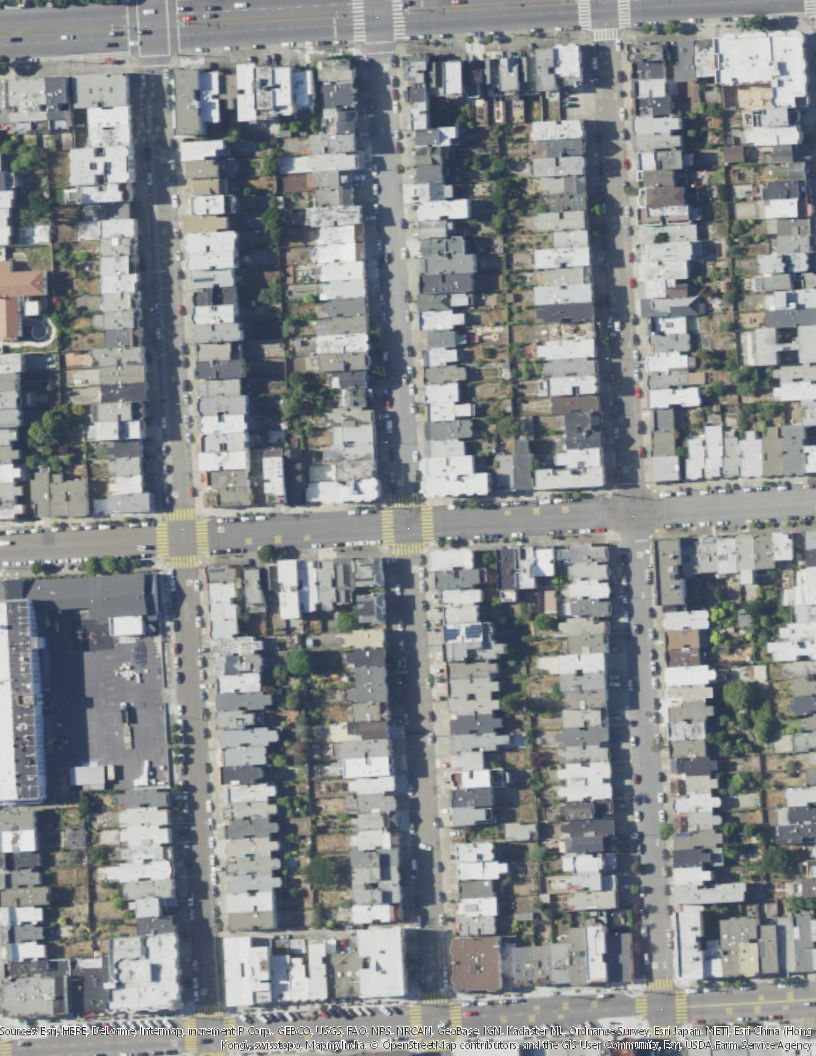zebracross: (391, 1, 409, 41), (351, 1, 367, 44), (164, 505, 197, 523), (389, 494, 421, 510), (155, 521, 170, 555), (195, 518, 209, 554), (223, 1014, 238, 1047), (675, 991, 689, 1026), (190, 1003, 224, 1017), (419, 508, 434, 539), (184, 1018, 197, 1053), (647, 977, 675, 993), (449, 1000, 464, 1029), (578, 1, 593, 30), (392, 542, 422, 556), (383, 507, 394, 544), (169, 555, 200, 568), (593, 29, 620, 43), (408, 1004, 423, 1029), (421, 991, 447, 1005), (636, 993, 649, 1016), (619, 1, 626, 29), (805, 1, 816, 17), (1, 1038, 11, 1053)
